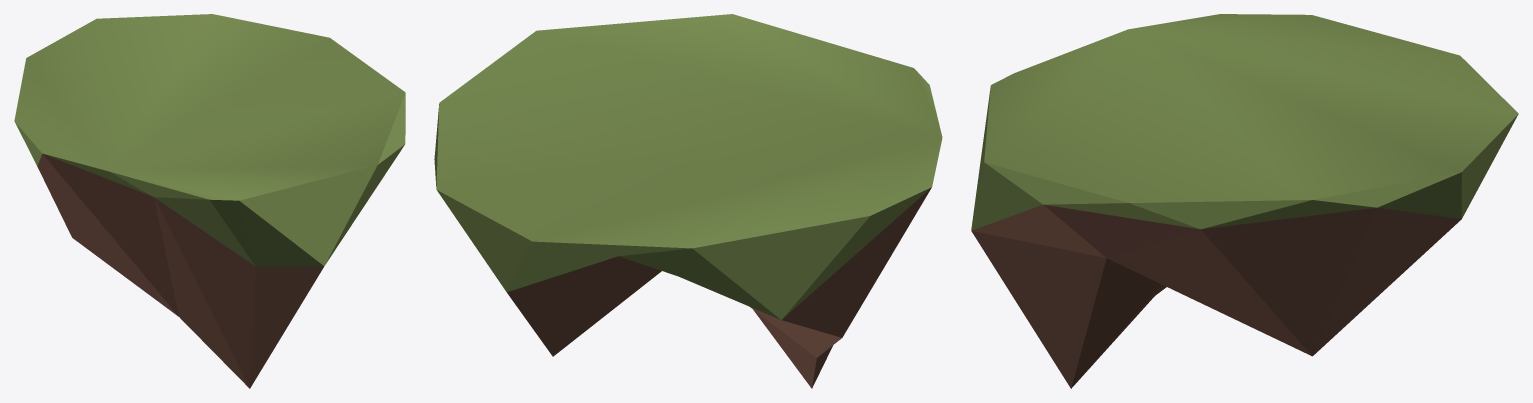
Rendered from lvl1-3erEscalon.fbx.
3 renders of one model, left to right at view 1: azimuth 30°, elevation 25°; view 2: azimuth 150°, elevation 25°; view 3: azimuth 270°, elevation 25°, orthographic. The views are drawn at different scales.
Visible parts, largest first — view 1: Icosphere.002; view 2: Icosphere.002; view 3: Icosphere.002.
Boxes of the visible parts, x1,y1,x2,y2 form: Icosphere.002: [14, 14, 405, 388]; Icosphere.002: [434, 14, 942, 388]; Icosphere.002: [971, 14, 1518, 388].
Size of the model in its own units: 2936 by 2037 by 3407.
